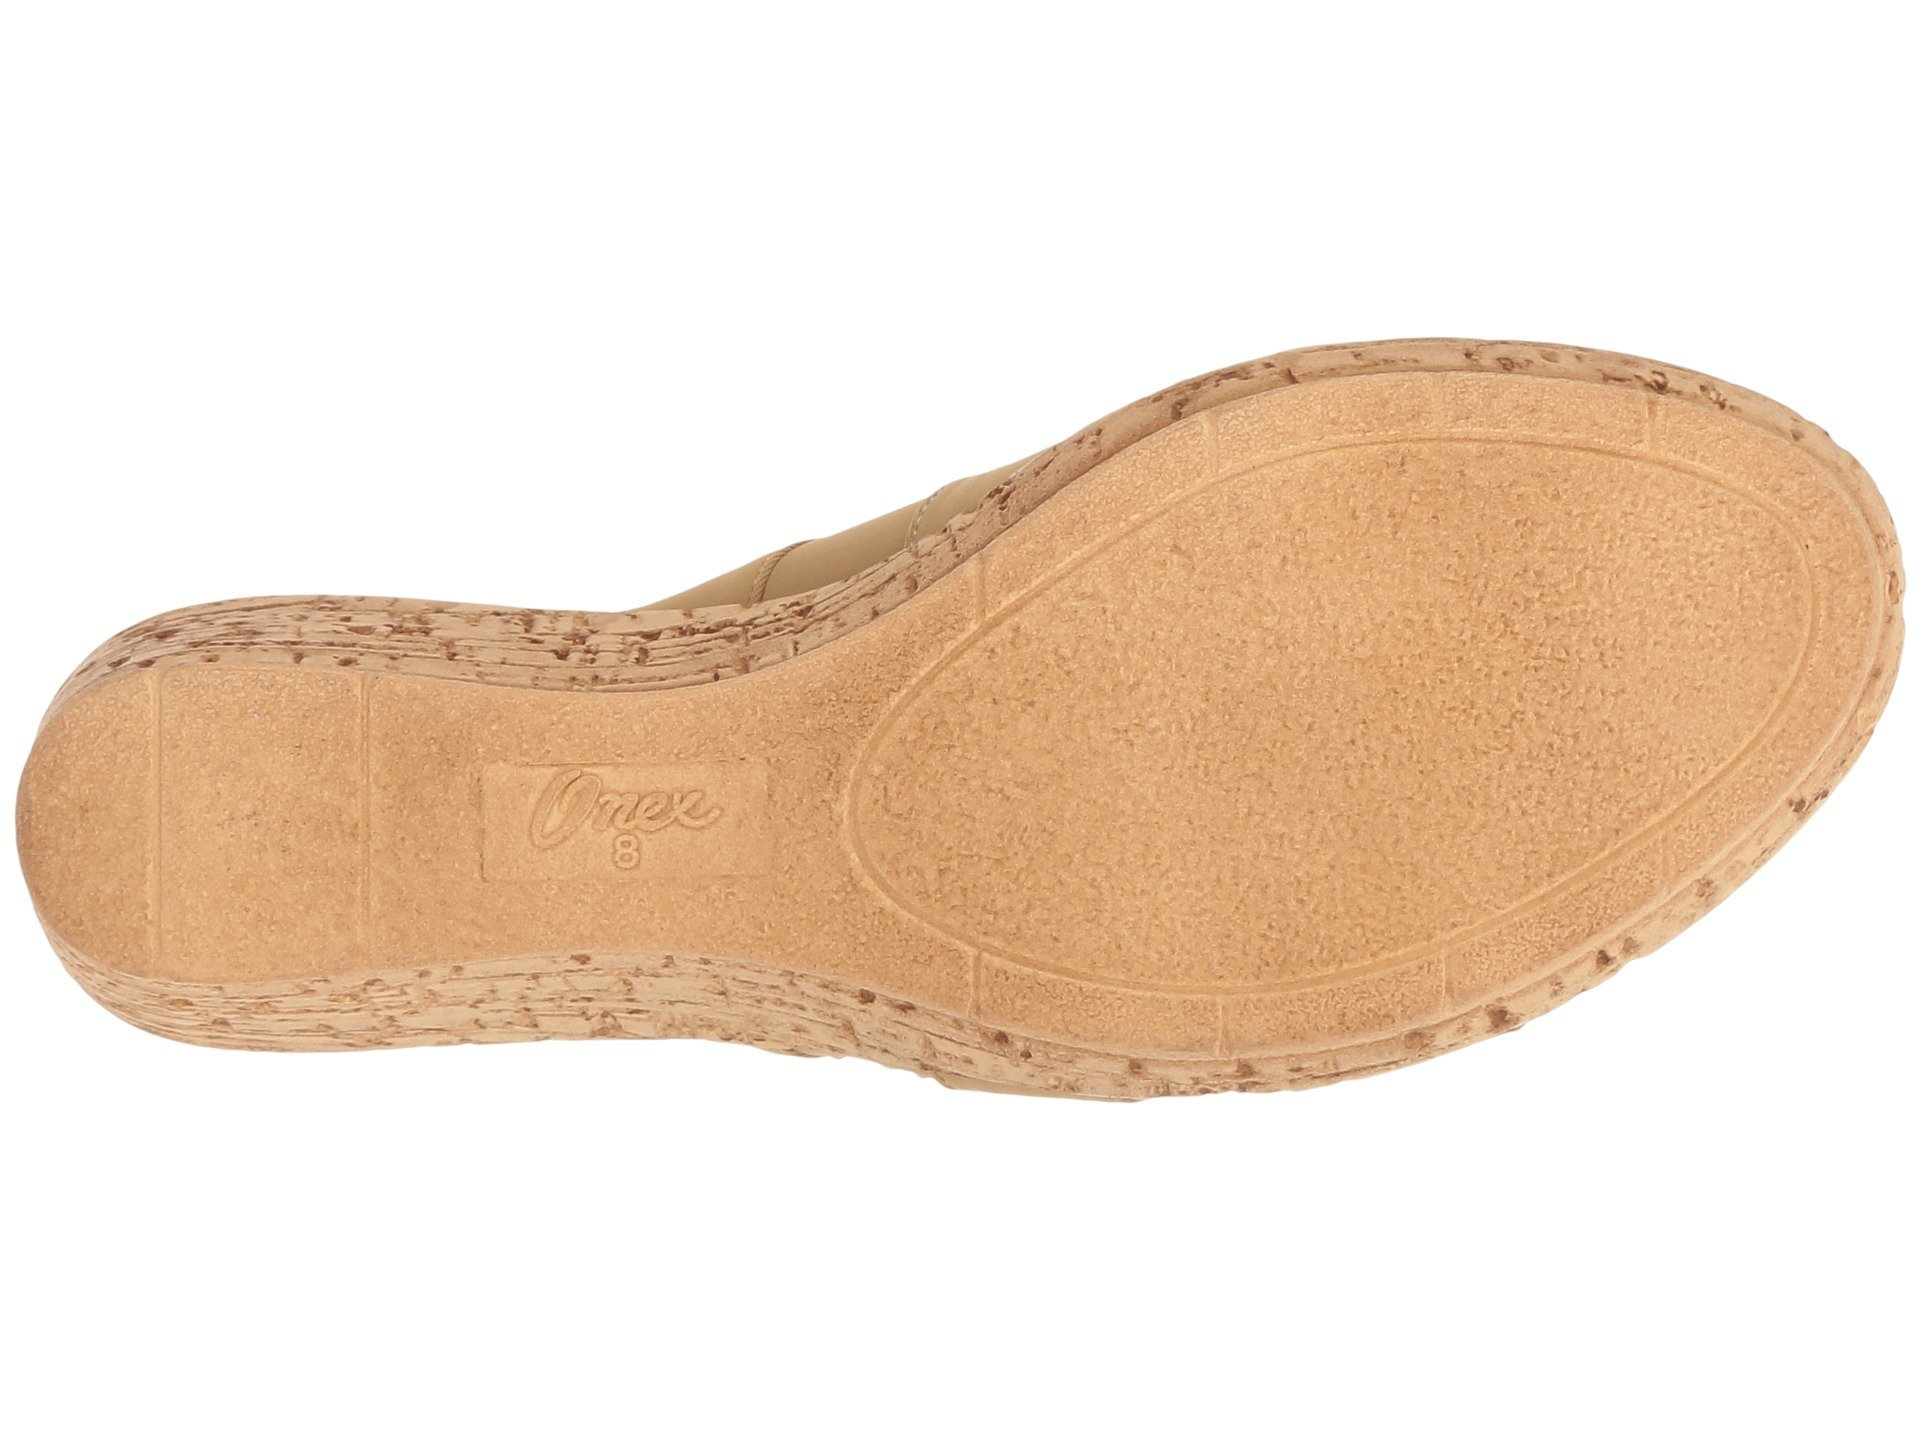line: (130, 646, 387, 1001)
other: (851, 445, 1813, 1001)
quad: (470, 759, 788, 900)
text: (470, 759, 788, 900)
